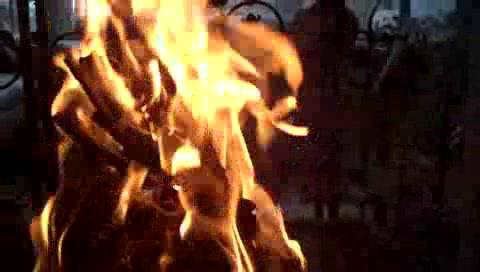fire: (31, 0, 310, 246)
